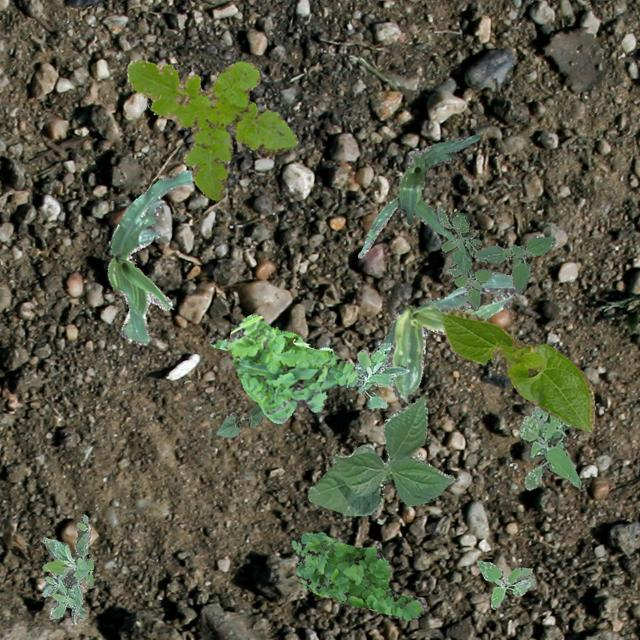crop: (440, 308, 594, 432), (380, 270, 516, 402), (306, 396, 454, 514), (108, 168, 192, 344), (396, 134, 478, 224), (356, 196, 454, 256), (215, 404, 262, 436)
weed: (125, 58, 298, 200), (208, 312, 356, 422), (436, 204, 554, 310), (288, 532, 426, 620), (41, 514, 92, 624), (518, 404, 580, 489), (343, 340, 408, 408), (476, 560, 534, 608)
